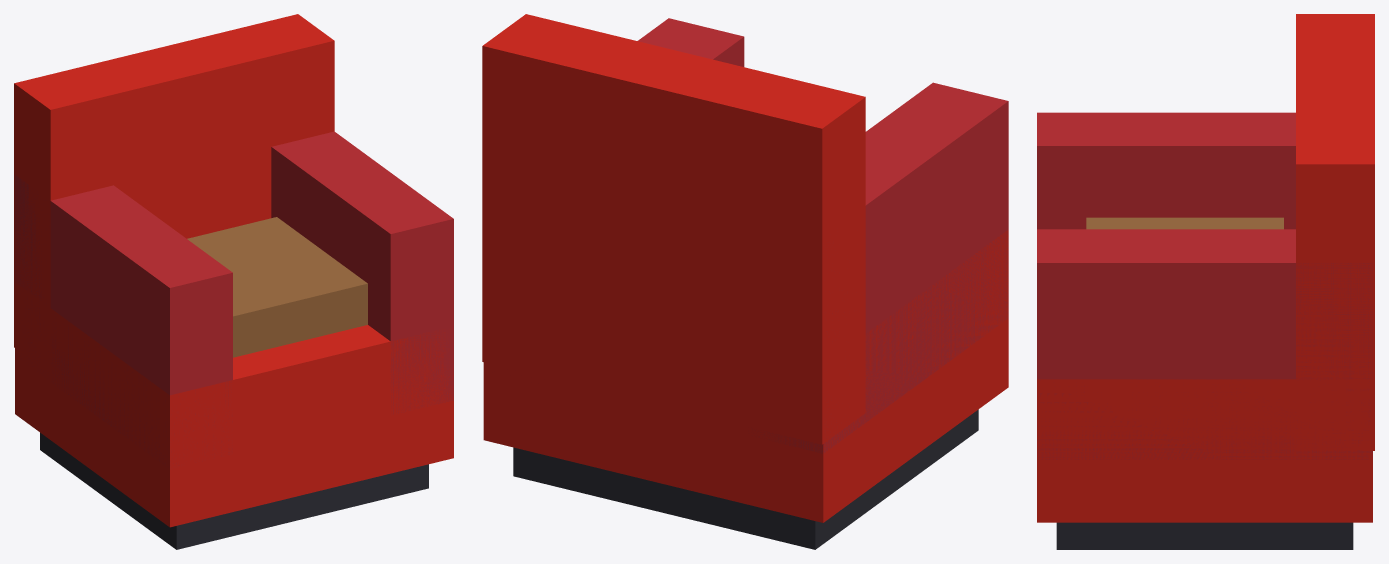
The model's file is reading_armchair.fbx.
3 renders of one model, left to right at view 1: azimuth 30°, elevation 25°; view 2: azimuth 150°, elevation 25°; view 3: azimuth 270°, elevation 25°, orthographic. The views are drawn at different scales.
Visible parts, largest first — view 1: reading_armchair; view 2: reading_armchair; view 3: reading_armchair.
Part boxes in pixels (left/top/right/bottom): reading_armchair: left=14, top=14, right=453, bottom=549; reading_armchair: left=482, top=14, right=1008, bottom=549; reading_armchair: left=1037, top=14, right=1374, bottom=549.
Size of the model in its own units: 0.9 by 1.1 by 0.855.
